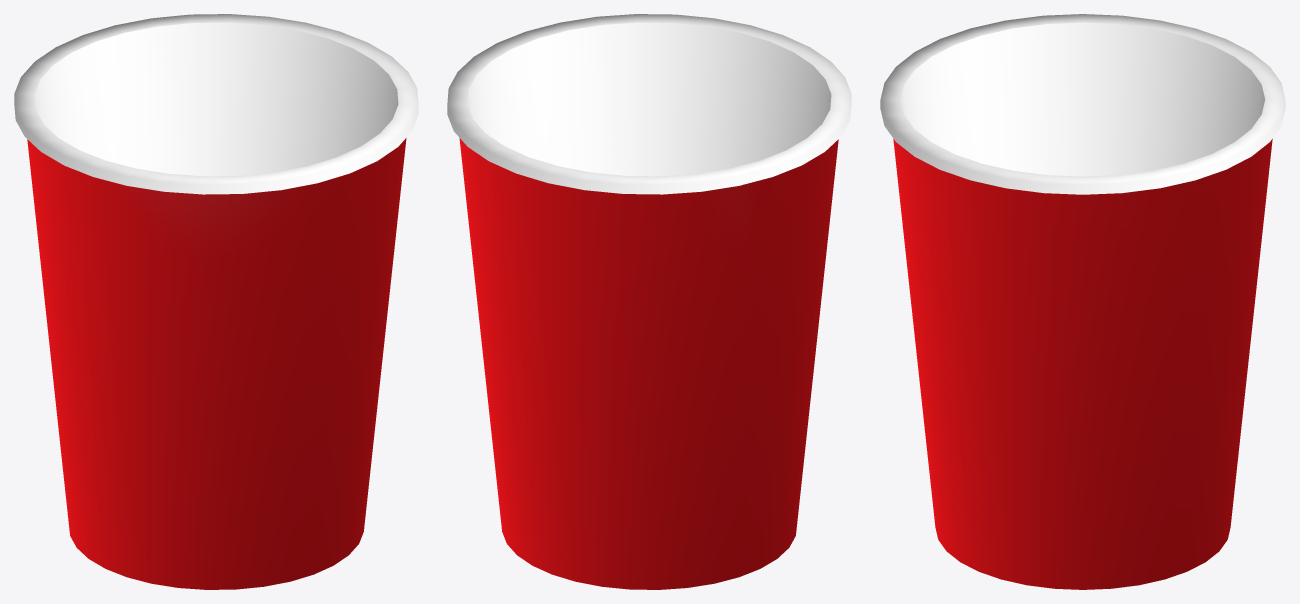
The model's file is cups.fbx.
3 views of the same model, side by side, from view 1: azimuth 30°, elevation 25°; view 2: azimuth 150°, elevation 25°; view 3: azimuth 270°, elevation 25° (orthographic).
Visible parts, largest first — view 1: Cylinder; view 2: Cylinder; view 3: Cylinder.
Part boxes in pixels (x1,y1,x2,y2): Cylinder: [14, 14, 418, 589]; Cylinder: [447, 14, 851, 589]; Cylinder: [880, 14, 1285, 589].
Size of the model in its own units: 274 by 320 by 274.
